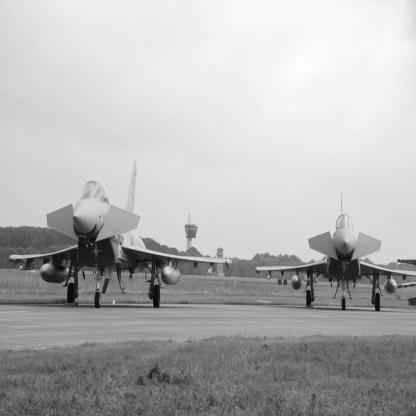EF2000: (10, 160, 234, 309), (256, 191, 416, 313)
